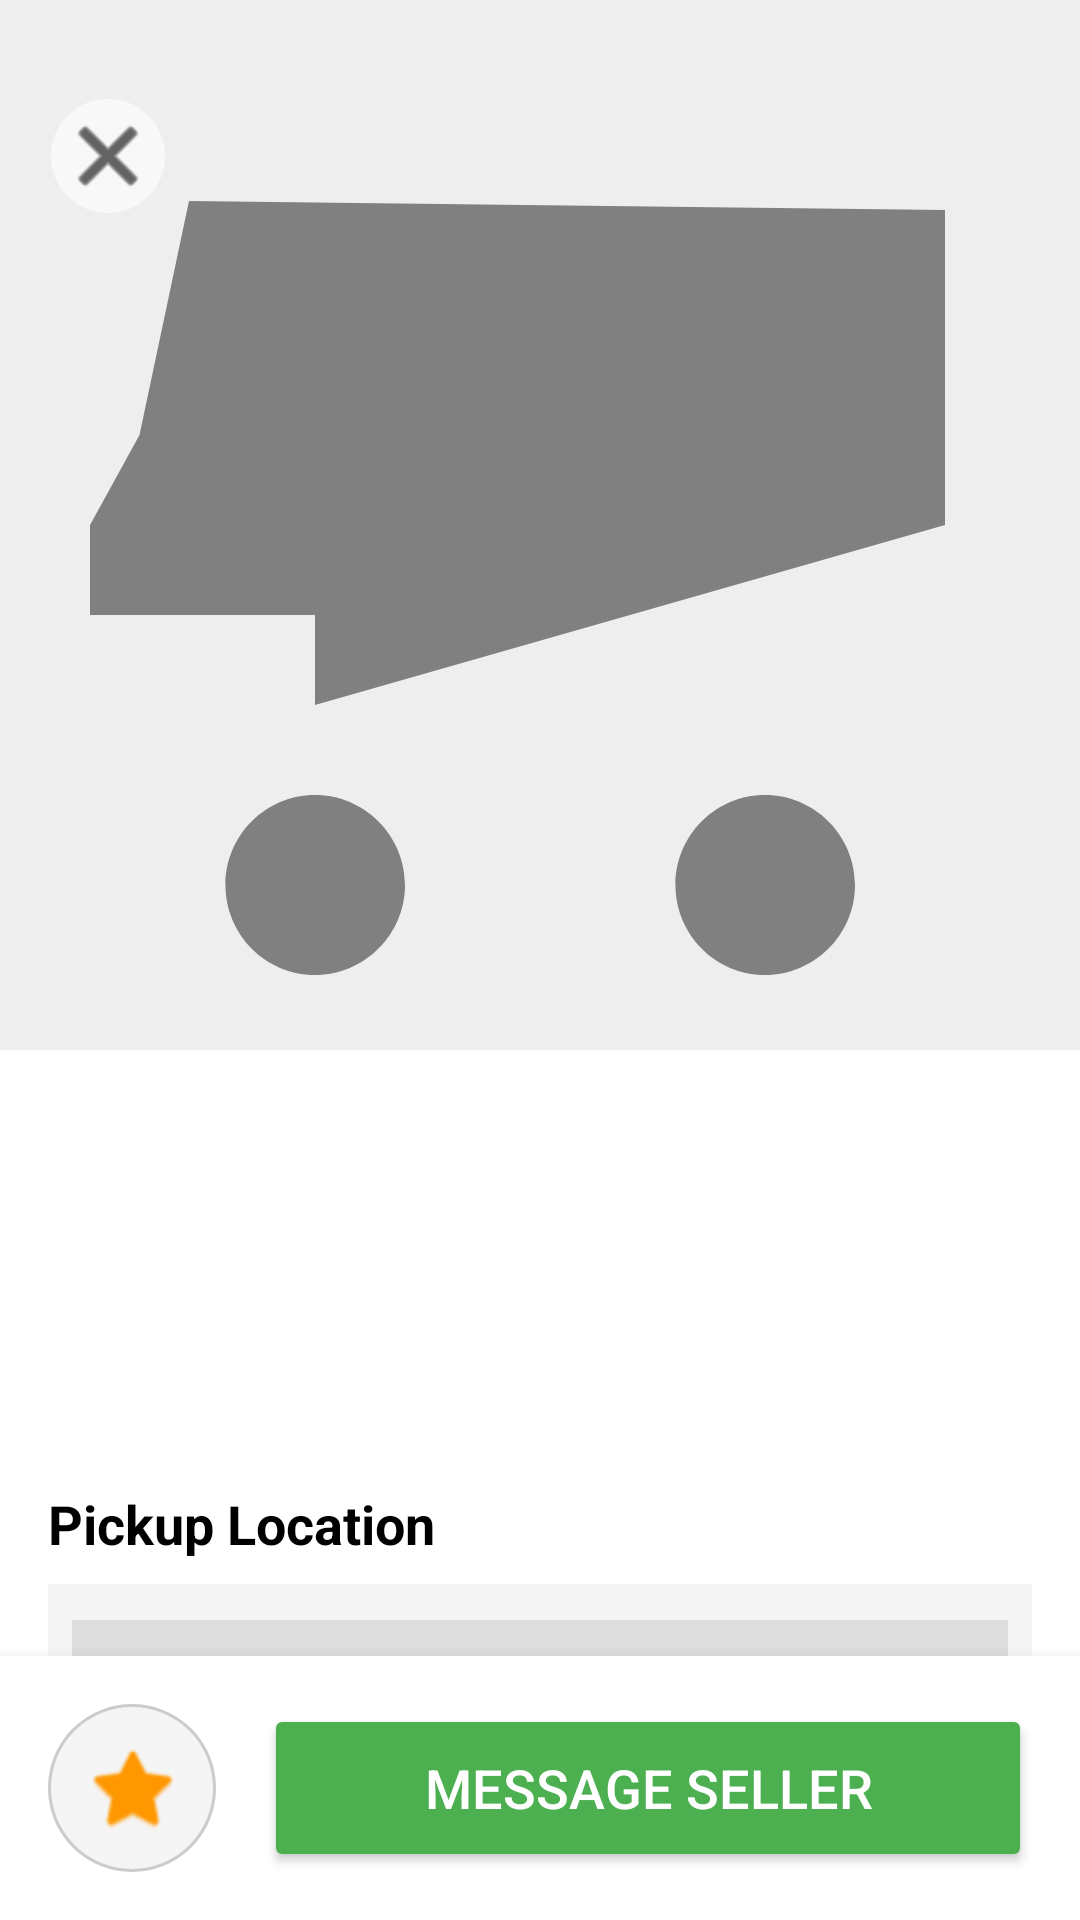

Icon click points for this 1080px x 1920px phone screenshot, format point (x, y):
Add to Wishlist: point (132, 1788)
